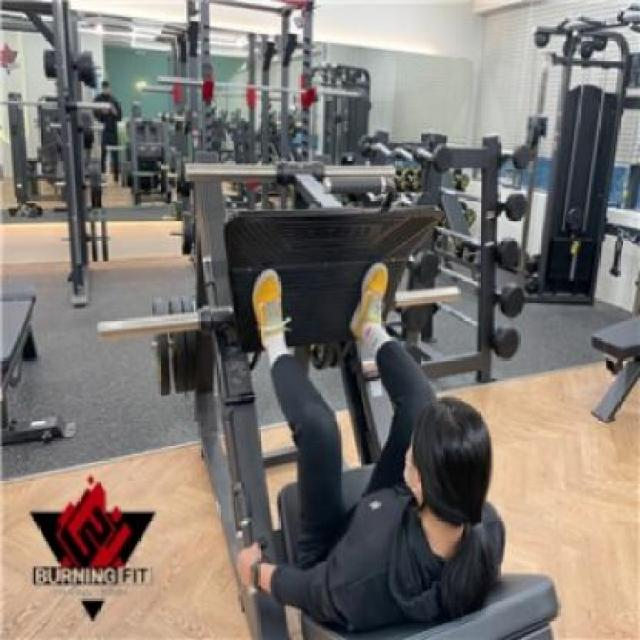leg press: (92, 146, 563, 640)
